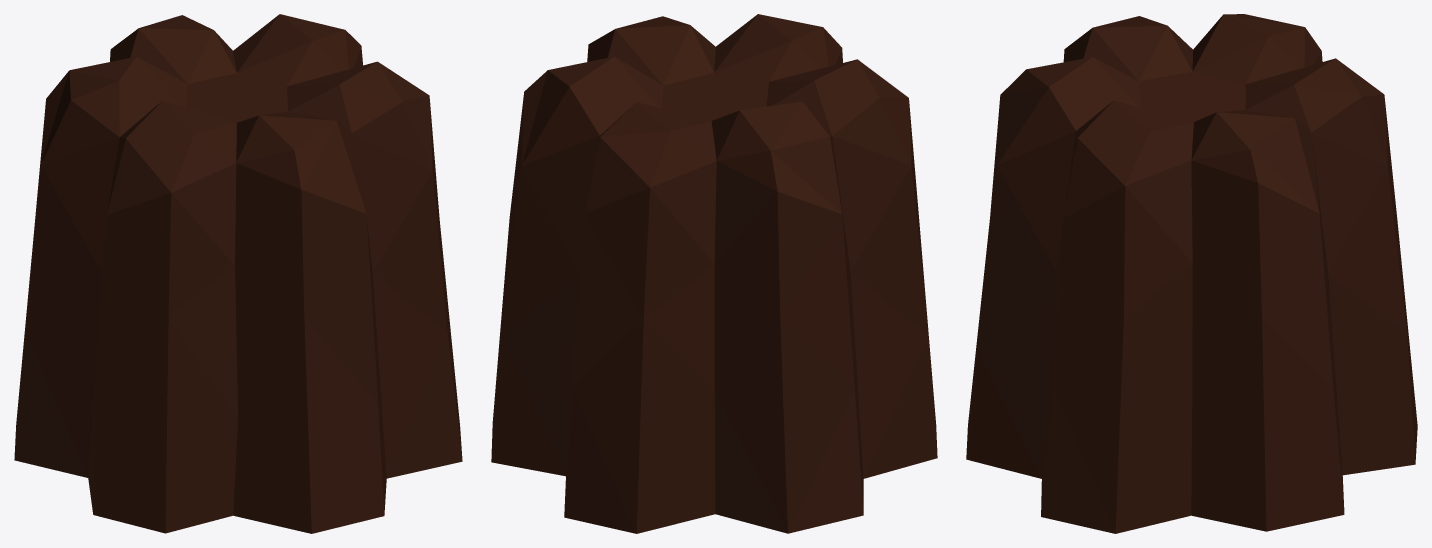
Rendered from canelee.fbx.
3 views of the same model, side by side, from view 1: azimuth 30°, elevation 25°; view 2: azimuth 150°, elevation 25°; view 3: azimuth 270°, elevation 25° (orthographic).
Parts seen in each view (by area): view 1: canelee; view 2: canelee; view 3: canelee.
Boxes of the visible parts, box(x1,y1,x2,y2) form: canelee: box(14, 14, 462, 533); canelee: box(491, 14, 937, 533); canelee: box(966, 14, 1417, 533).
Bounding box in the file's own units: 6.18 × 6.04 × 6.49.
